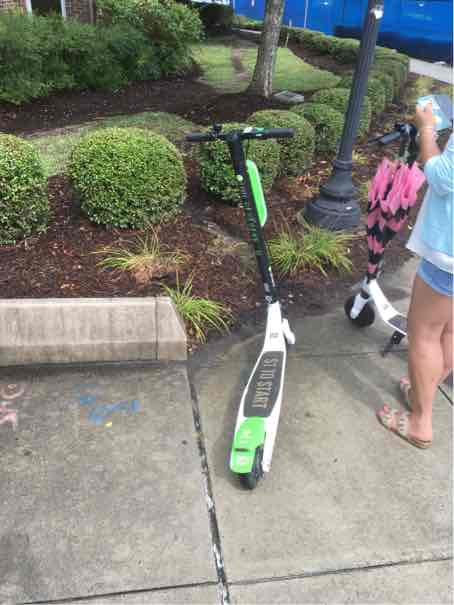scooter: (122, 172, 454, 318)
